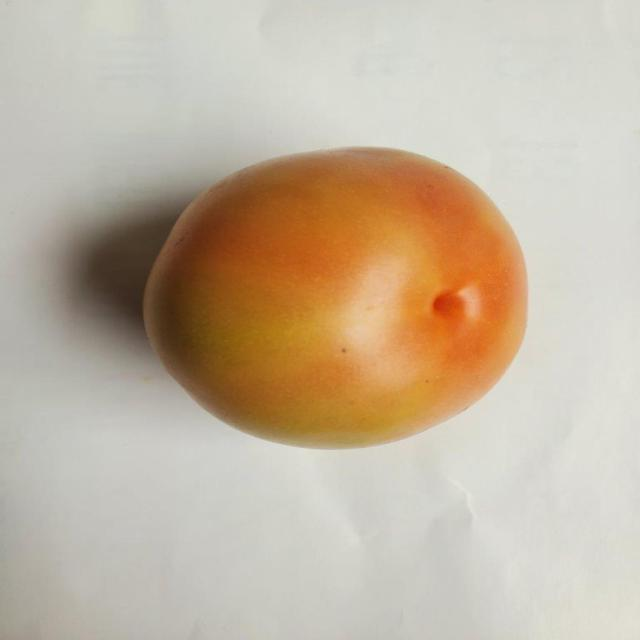Tomato: (144, 146, 530, 452)
